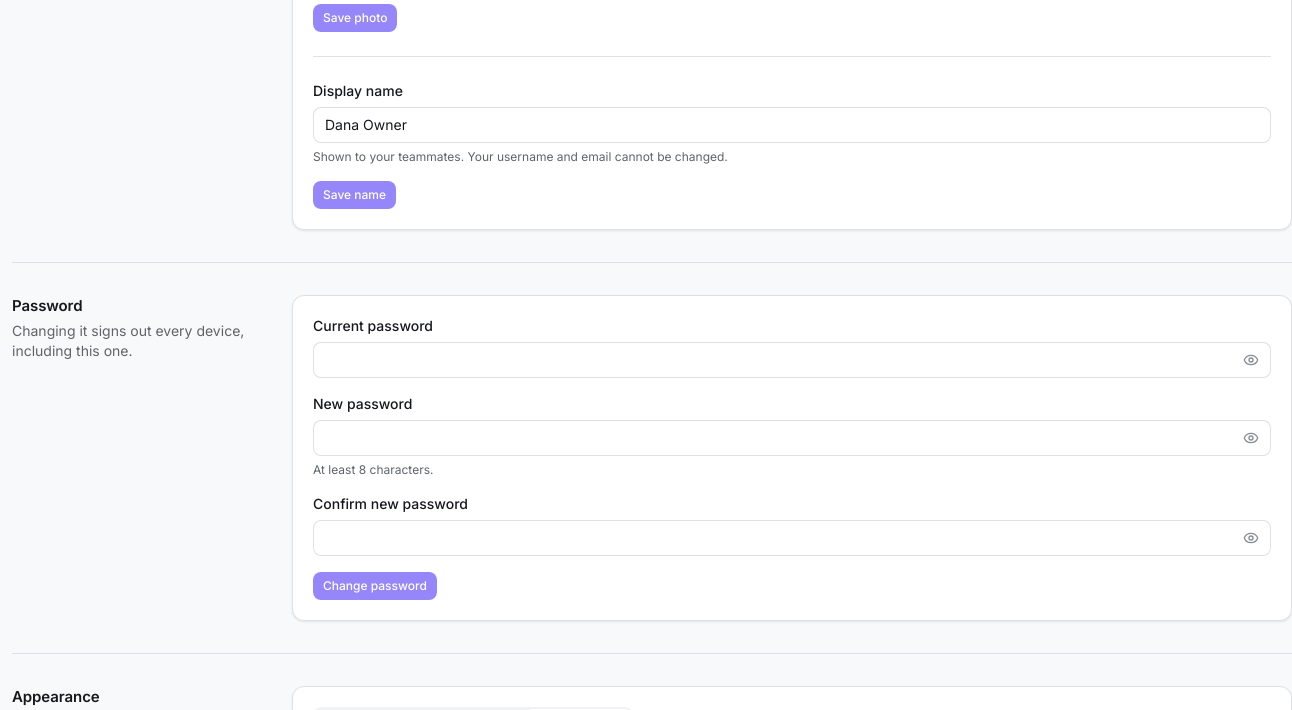
Test case: Account › will not submit a mistyped confirmation
(page scrolled)
In the password field labelled "Current password": (792, 360) x1=313 y1=342 x2=1271 y2=378, type "OldPassw0rd!"
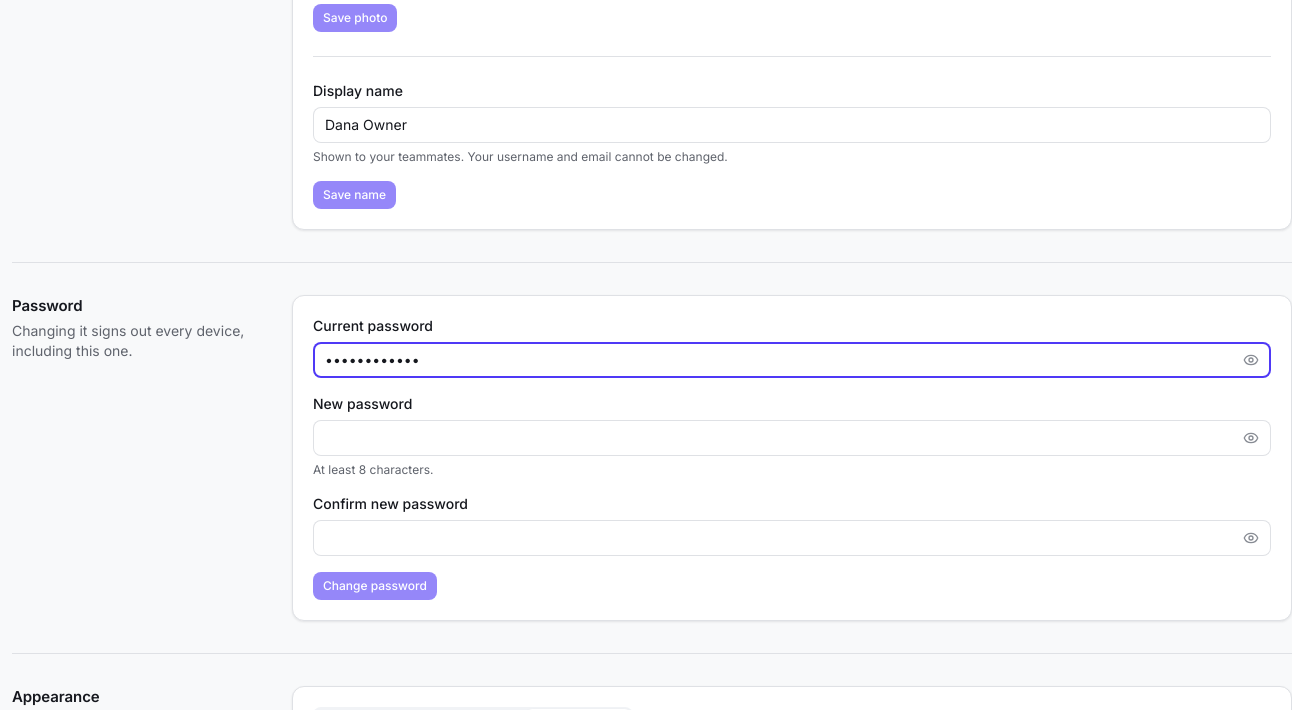
In the password field labelled "New password": (792, 438) x1=313 y1=420 x2=1271 y2=456, type "NewPassw0rd!"
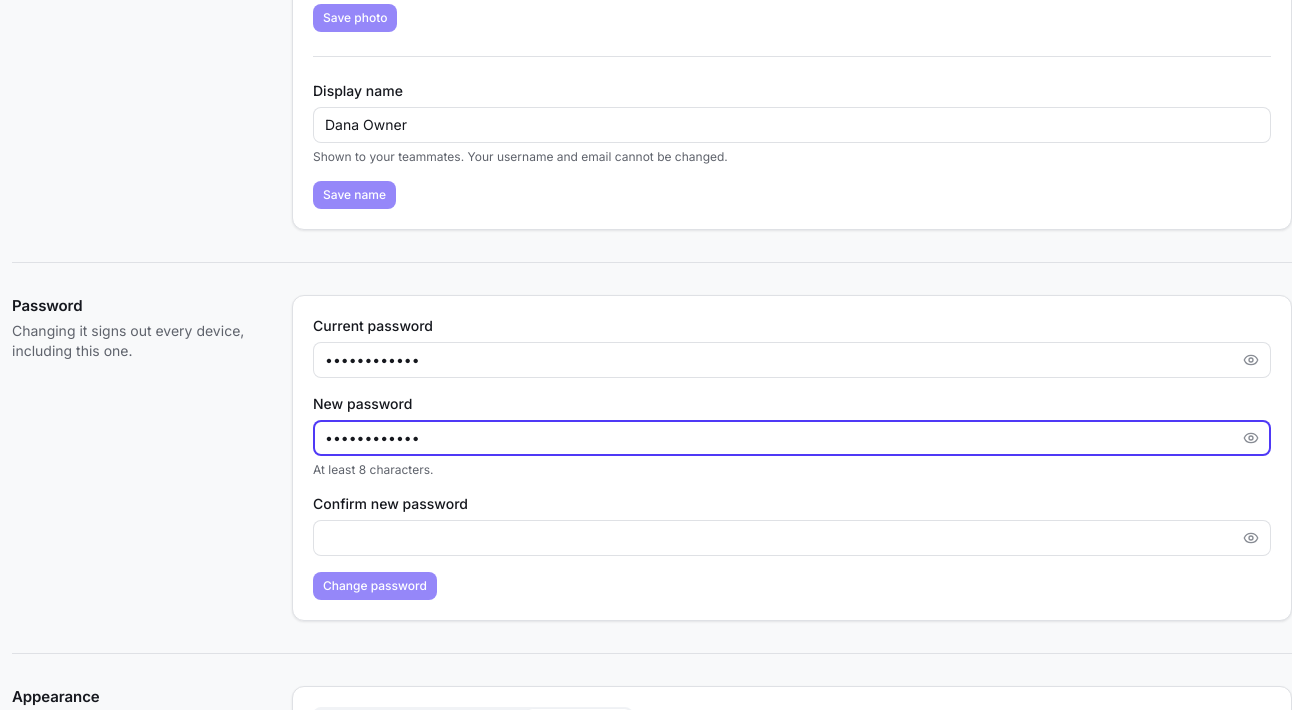
In the password field labelled "Confirm new password": (792, 538) x1=313 y1=520 x2=1271 y2=556, type "NewPassw0rd?"
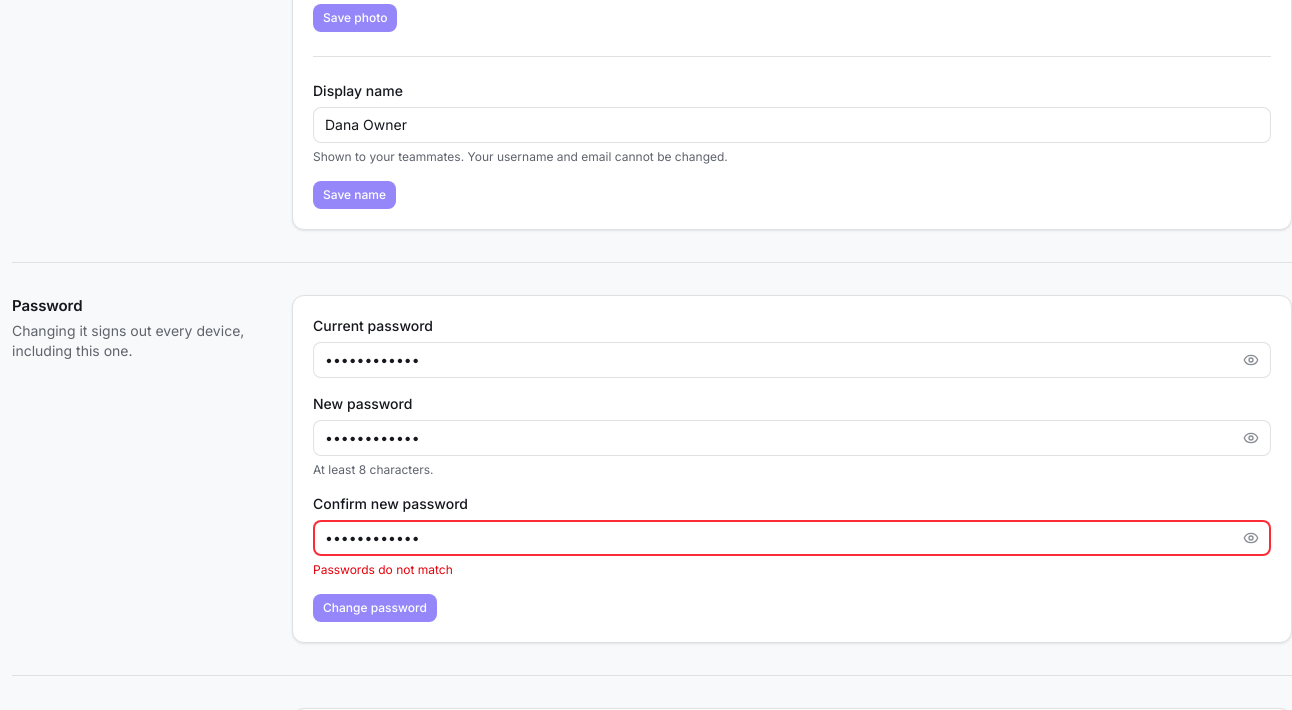
Expected: the button "Change password" is disabled, x1=313 y1=594 x2=437 y2=622
Expected: the text "Passwords do not match" is shown, x1=313 y1=562 x2=453 y2=577
